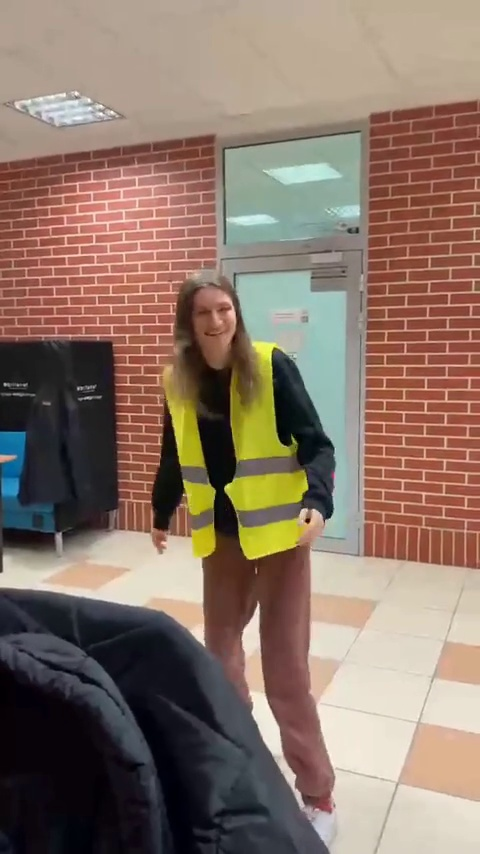vest: (160, 264, 336, 822)
